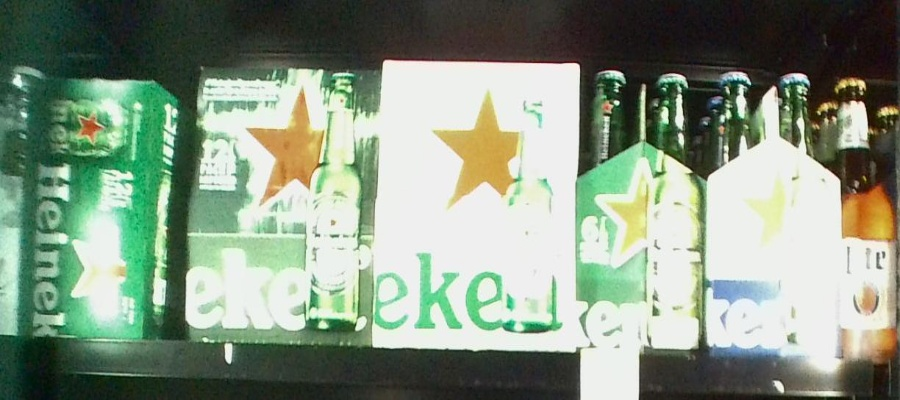bottle: (380, 58, 579, 353), (192, 65, 373, 347), (21, 78, 187, 347), (706, 70, 842, 357), (582, 64, 702, 348)
